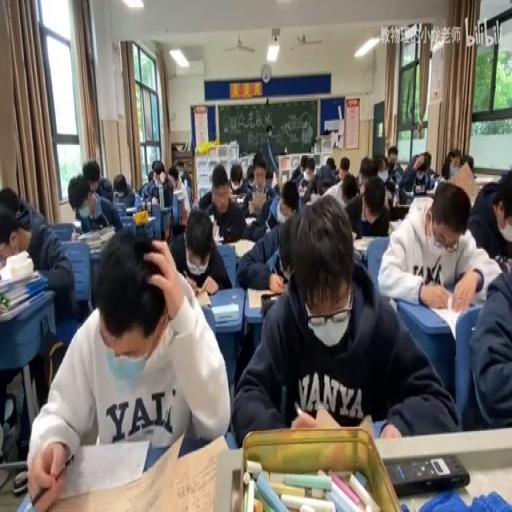calculator: (19, 430, 179, 509), (159, 431, 229, 509), (424, 299, 478, 340), (0, 288, 45, 322), (76, 225, 115, 250), (210, 302, 238, 322), (234, 236, 256, 256), (193, 287, 211, 307), (352, 238, 371, 252), (132, 214, 155, 224), (212, 222, 221, 243), (132, 192, 142, 210), (400, 192, 413, 205), (388, 219, 398, 235), (70, 219, 82, 232), (243, 215, 256, 226), (230, 195, 244, 205), (422, 189, 436, 198), (308, 193, 318, 205), (125, 205, 136, 215)
paper: (233, 194, 451, 446), (1, 184, 80, 452), (465, 260, 512, 429), (172, 208, 230, 294), (466, 162, 512, 265), (70, 169, 126, 232), (344, 174, 390, 238), (250, 168, 282, 232), (400, 148, 438, 196), (163, 164, 190, 230), (0, 215, 30, 263), (278, 219, 296, 284), (311, 155, 339, 196), (294, 155, 315, 199), (261, 124, 277, 179), (226, 162, 248, 201), (0, 185, 22, 219), (82, 161, 101, 189), (373, 153, 389, 185), (441, 150, 458, 180), (384, 169, 398, 205), (358, 162, 376, 189), (280, 186, 296, 216), (197, 189, 212, 211), (150, 159, 164, 181), (138, 176, 150, 199), (386, 145, 396, 168), (113, 179, 125, 196), (245, 165, 254, 186), (339, 158, 350, 173), (466, 154, 474, 174), (422, 152, 430, 171), (174, 163, 184, 175), (265, 170, 272, 186), (147, 169, 154, 181), (266, 125, 272, 135), (301, 164, 306, 174)
person: (384, 452, 470, 494), (260, 292, 282, 312), (146, 196, 152, 214)
